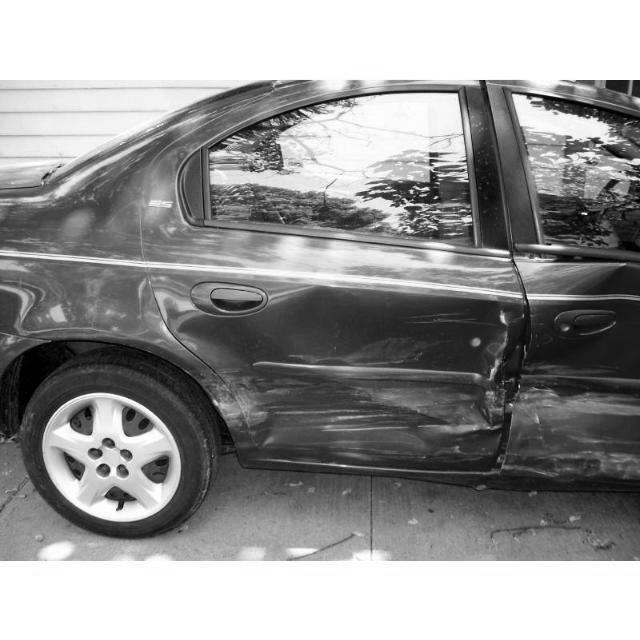doorouter-dent: (134, 214, 519, 482), (497, 241, 639, 510)
